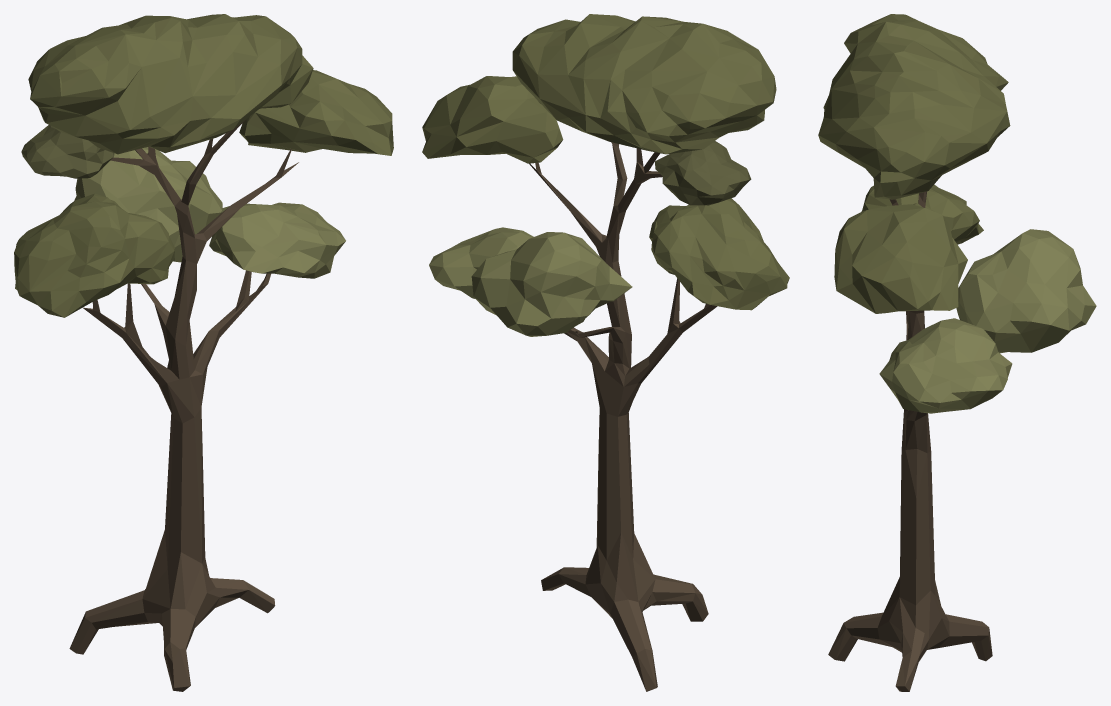
Rendered from SM_Envr_Nature_Tree_Large_08.fbx.
3 views of the same model, side by side, from view 1: azimuth 30°, elevation 25°; view 2: azimuth 150°, elevation 25°; view 3: azimuth 270°, elevation 25° (orthographic). The views are drawn at different scales.
Visible parts, largest first — view 1: SM_Envr_Nature_Tree_Large_08; view 2: SM_Envr_Nature_Tree_Large_08; view 3: SM_Envr_Nature_Tree_Large_08.
Part boxes in pixels (x1,y1,x2,y2): SM_Envr_Nature_Tree_Large_08: (14, 14, 393, 691); SM_Envr_Nature_Tree_Large_08: (422, 14, 789, 691); SM_Envr_Nature_Tree_Large_08: (818, 14, 1096, 691).
Size of the model in its own units: 537 by 907 by 360.
